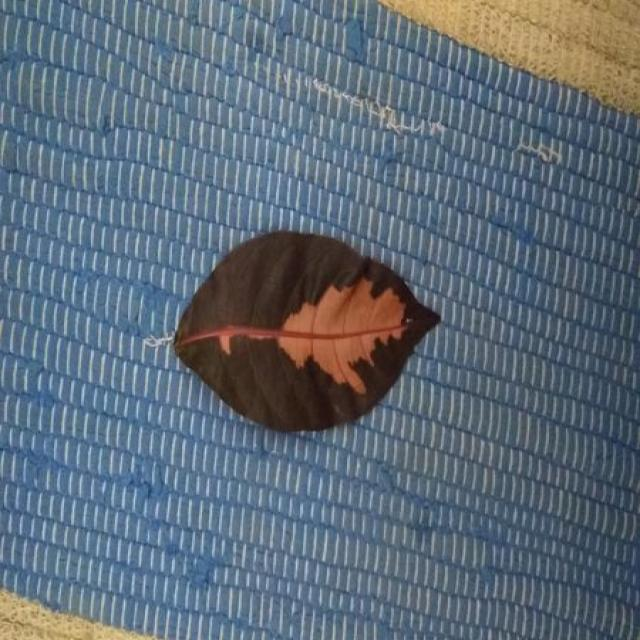caricature: (173, 231, 440, 431)
